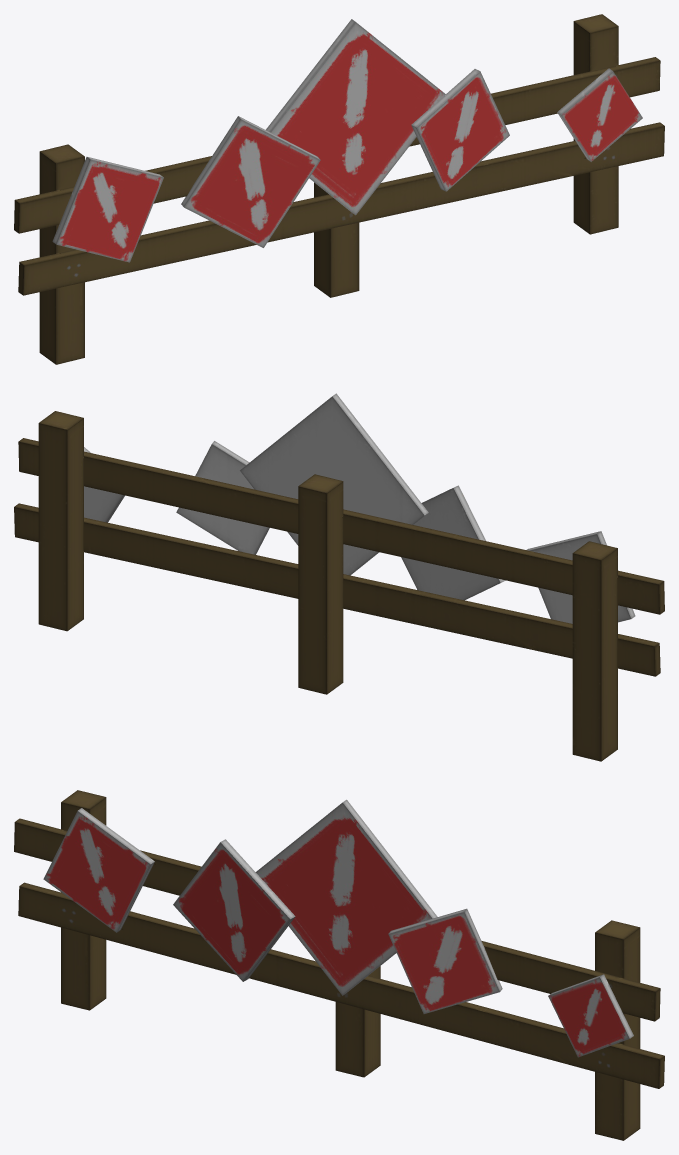
Rendered from fence_danger.fbx.
3 views of the same model, one above another, from view 1: azimuth 30°, elevation 25°; view 2: azimuth 150°, elevation 25°; view 3: azimuth 330°, elevation 25° (orthographic).
Visible parts, largest first — view 1: fence_danger; view 2: fence_danger; view 3: fence_danger.
Boxes of the visible parts, <box> form: fence_danger: <box>14,14,664,364</box>; fence_danger: <box>14,393,664,761</box>; fence_danger: <box>14,790,664,1140</box>.
Bounding box in the file's own units: 225 × 92.85 × 20.66.
Materials: 1 (1 with a texture image).
